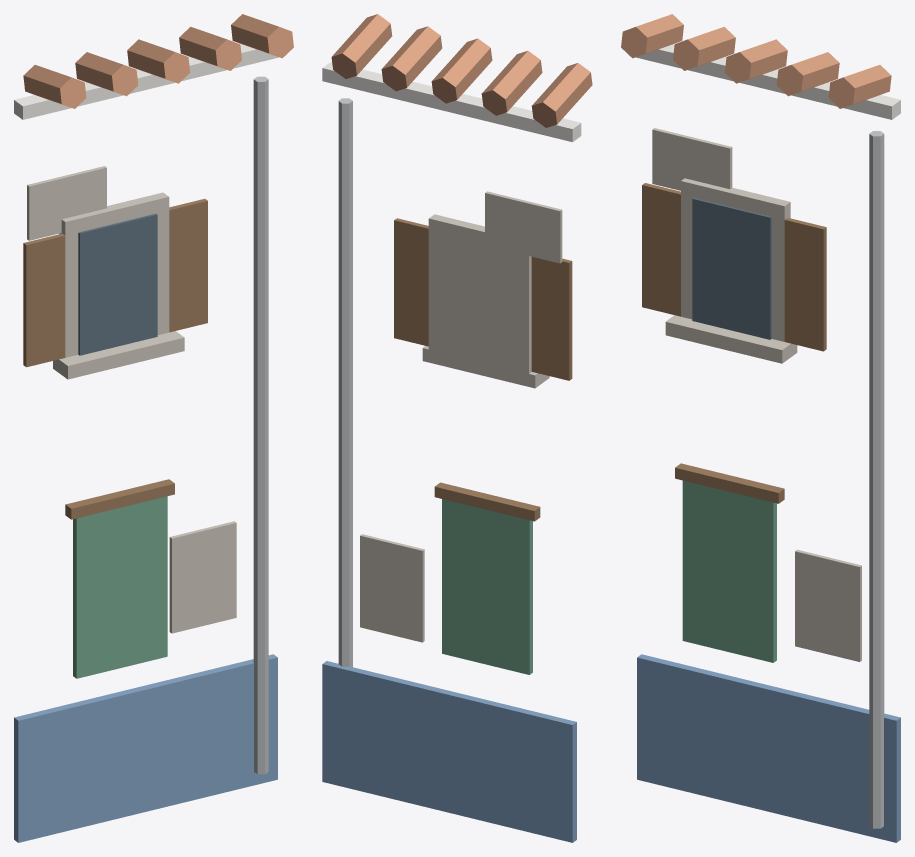
Rendered from VJ_Fachada_D.fbx.
The picture shows the model from 3 angles, left to right: view 1: azimuth 30°, elevation 25°; view 2: azimuth 150°, elevation 25°; view 3: azimuth 330°, elevation 25°; orthographic projection. The views are drawn at different scales.
Parts seen in each view (by area): view 1: VJ_Fachada_D; view 2: VJ_Fachada_D; view 3: VJ_Fachada_D.
Part boxes in pixels (left/top/right/bottom): VJ_Fachada_D: left=14, top=14, right=293, bottom=842; VJ_Fachada_D: left=322, top=14, right=592, bottom=842; VJ_Fachada_D: left=621, top=14, right=900, bottom=842.
Size of the model in its own units: 2 by 5.74 by 0.5348.
